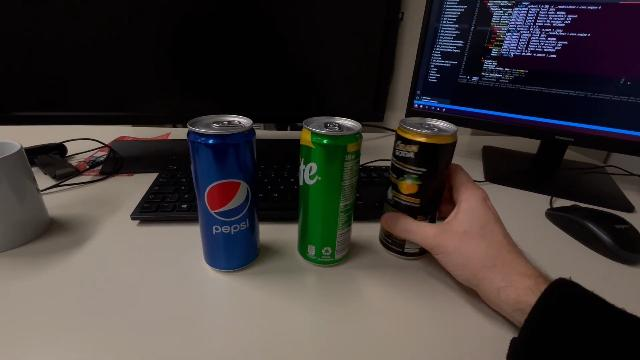OranSoda: (378, 115, 459, 259)
Pepsi: (187, 112, 263, 274)
Sprite: (296, 118, 362, 266)
